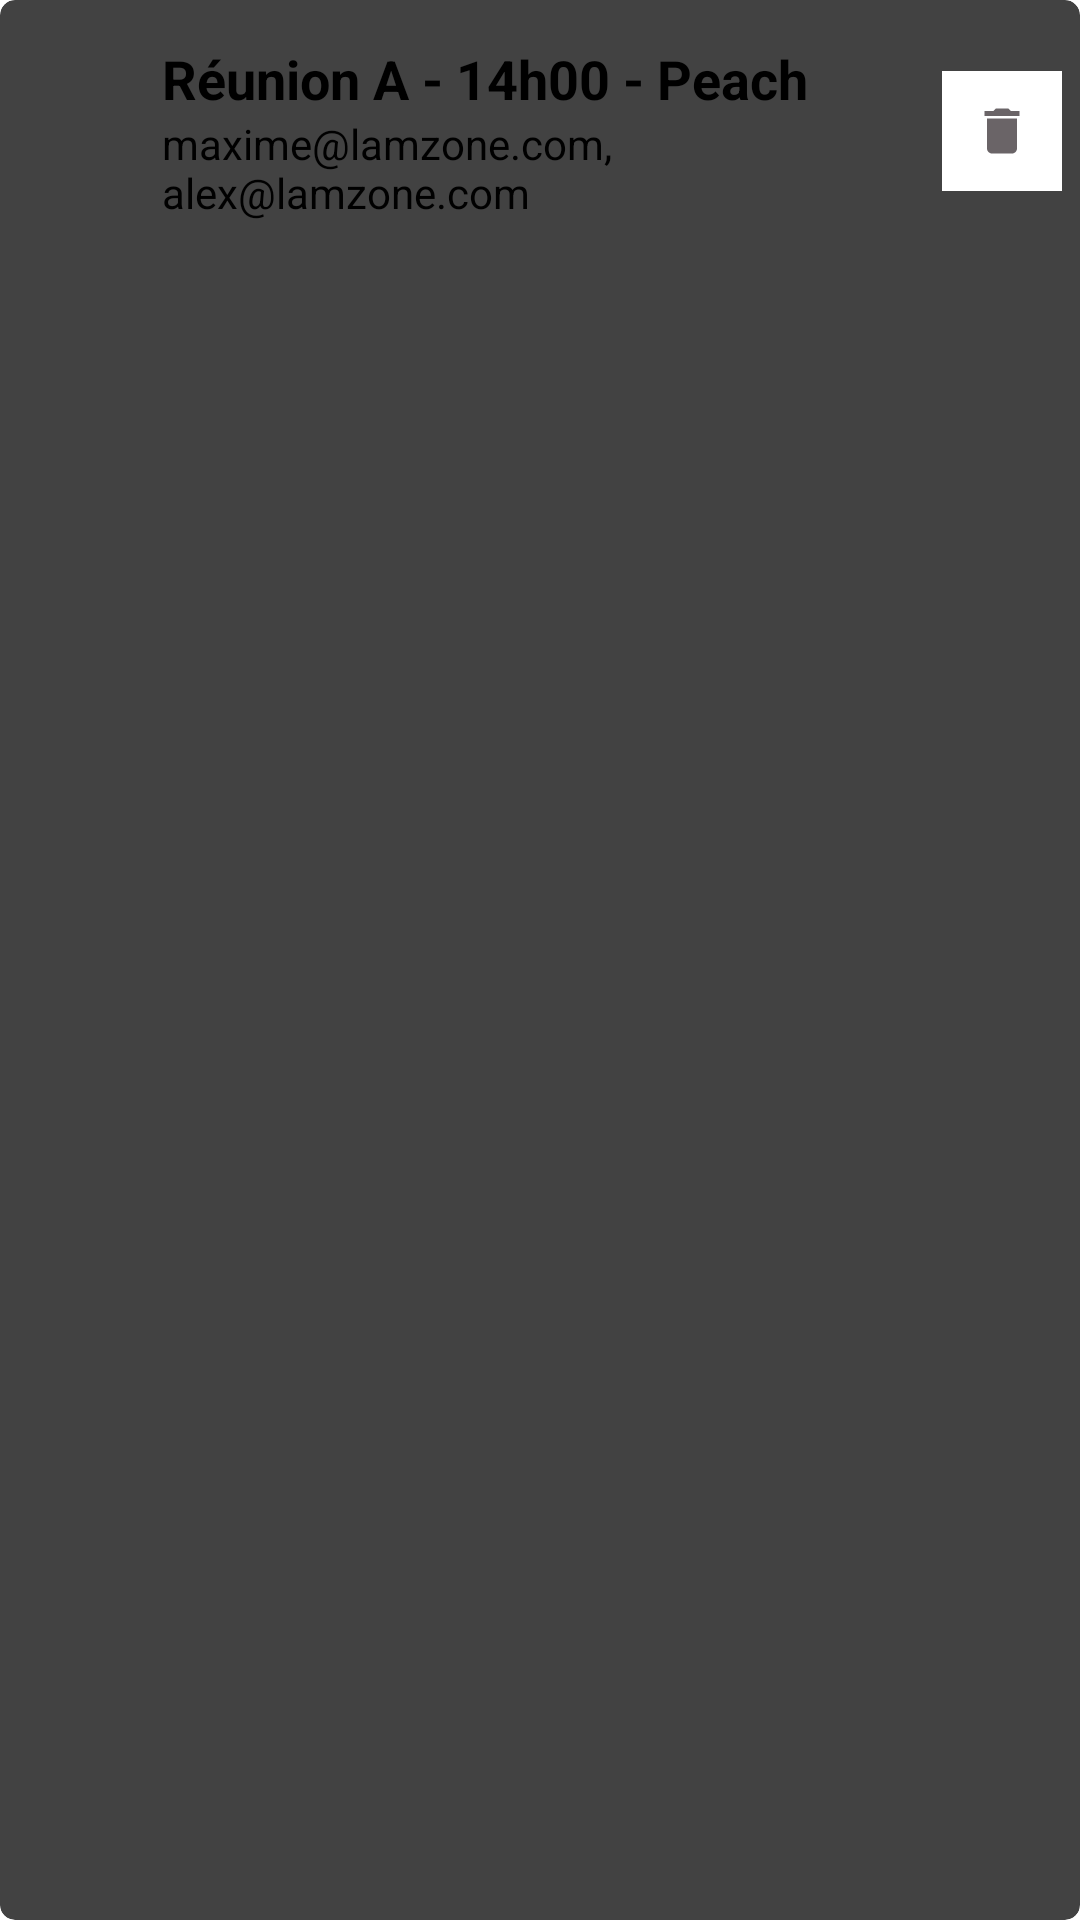

Where icons sit on this 1080 × 1920 app screen, as detection(x1, y1, x2, y2):
supprimer la réunion: detection(942, 71, 1062, 191)
